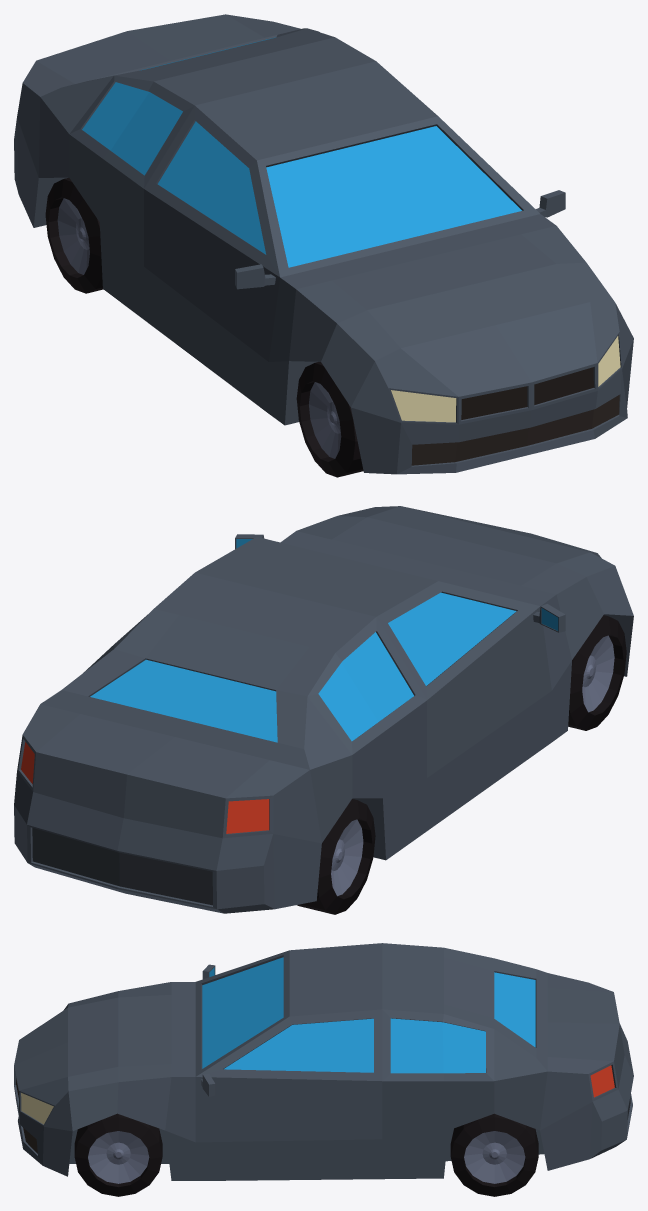
File: Car003.fbx
3 views of the same model, one above another, from view 1: azimuth 30°, elevation 25°; view 2: azimuth 150°, elevation 25°; view 3: azimuth 270°, elevation 25° (orthographic). The views are drawn at different scales.
Visible parts, largest first — view 1: Lacquer, Cube, RightFrontTire, BackTires; view 2: Lacquer, Cube, BackTires, RightFrontTire; view 3: Lacquer, Cube, BackTires, LeftFrontTire.
Boxes of the visible parts, <box> form: Lacquer: <box>14,14,633,474</box>; Cube: <box>82,37,620,465</box>; RightFrontTire: <box>296,362,363,477</box>; BackTires: <box>45,177,103,293</box>; Lacquer: <box>14,506,633,913</box>; Cube: <box>21,539,558,905</box>; BackTires: <box>297,799,375,914</box>; RightFrontTire: <box>568,615,626,730</box>; Lacquer: <box>14,943,633,1180</box>; Cube: <box>16,957,630,1153</box>; BackTires: <box>450,1113,538,1196</box>; LeftFrontTire: <box>74,1113,162,1196</box>.
Bounding box in the file's own units: 250 × 166 × 545.
